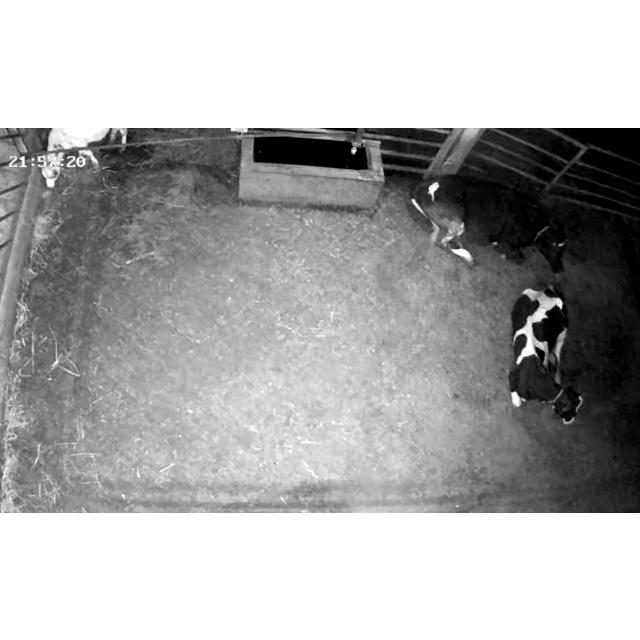lay: (408, 167, 586, 277), (503, 277, 589, 431)
